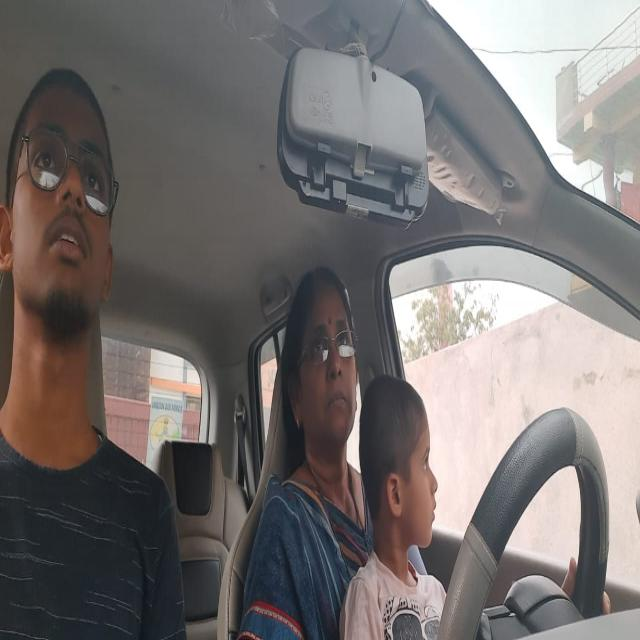child: (364, 385, 444, 565)
person: (4, 72, 116, 344), (290, 267, 362, 462)
